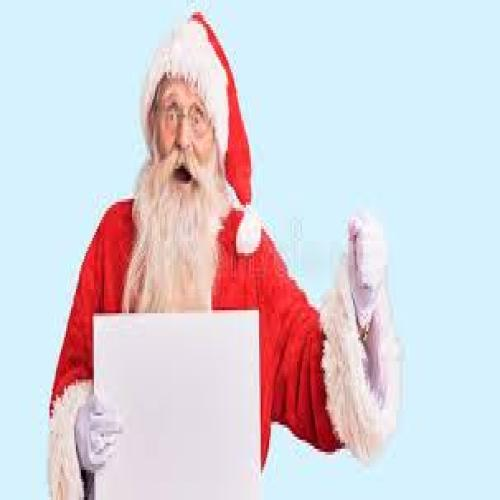Santa: (48, 9, 401, 499)
